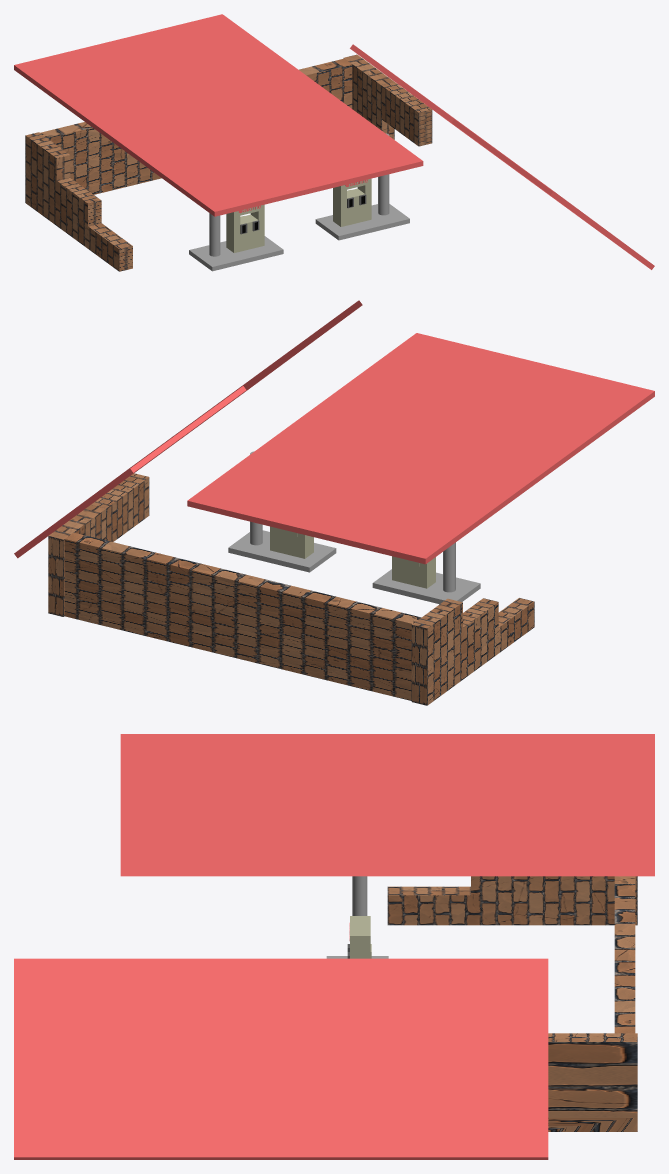
The model's file is petrol station textured.fbx.
The picture shows the model from 3 angles, top to bottom: view 1: azimuth 30°, elevation 25°; view 2: azimuth 150°, elevation 25°; view 3: azimuth 270°, elevation 25°; orthographic projection. The views are drawn at different scales.
Visible parts, largest first — view 1: pCube3, pCube1, pasted__pasted__pCube1, pasted__pCube1, pasted__pCube2, pCube2, pasted__pasted__pasted__pCube2, pasted__pasted__pCube2, pCylinder1, pasted__pCylinder1; view 2: pCube3, pasted__pasted__pCube1, pCube1, pasted__pCube1, pasted__pasted__pCube2, pasted__pasted__pasted__pCube2, pCube2, pasted__pCube2, pCylinder1; view 3: pCube3, pCube1, pasted__pCube1, pasted__pasted__pCube1, pCube2, pCylinder1.
Part boxes in pixels (x1,y1,x2,y2): pCube3: [14, 14, 654, 269]; pCube1: [25, 132, 132, 271]; pasted__pasted__pCube1: [40, 58, 352, 194]; pasted__pCube1: [343, 54, 432, 146]; pasted__pCube2: [333, 178, 371, 226]; pCube2: [226, 204, 264, 252]; pasted__pasted__pasted__pCube2: [189, 236, 283, 271]; pasted__pasted__pCube2: [315, 204, 409, 240]; pCylinder1: [209, 213, 220, 256]; pasted__pCylinder1: [378, 133, 389, 215]; pCube3: [14, 300, 654, 564]; pasted__pasted__pCube1: [64, 532, 421, 700]; pCube1: [411, 598, 534, 705]; pasted__pCube1: [48, 473, 149, 616]; pasted__pasted__pCube2: [228, 530, 336, 572]; pasted__pasted__pasted__pCube2: [372, 569, 480, 604]; pCube2: [392, 556, 435, 588]; pasted__pCube2: [270, 526, 313, 558]; pCylinder1: [443, 542, 455, 592]; pCube3: [14, 734, 654, 1159]; pCube1: [387, 876, 637, 925]; pasted__pCube1: [548, 1033, 637, 1131]; pasted__pasted__pCube1: [614, 876, 635, 1033]; pCube2: [347, 916, 371, 958]; pCylinder1: [352, 876, 367, 915].
Bounding box in the file's own units: 29.54 × 9.49 × 30.77.
Materials: 7 (2 with a texture image).
